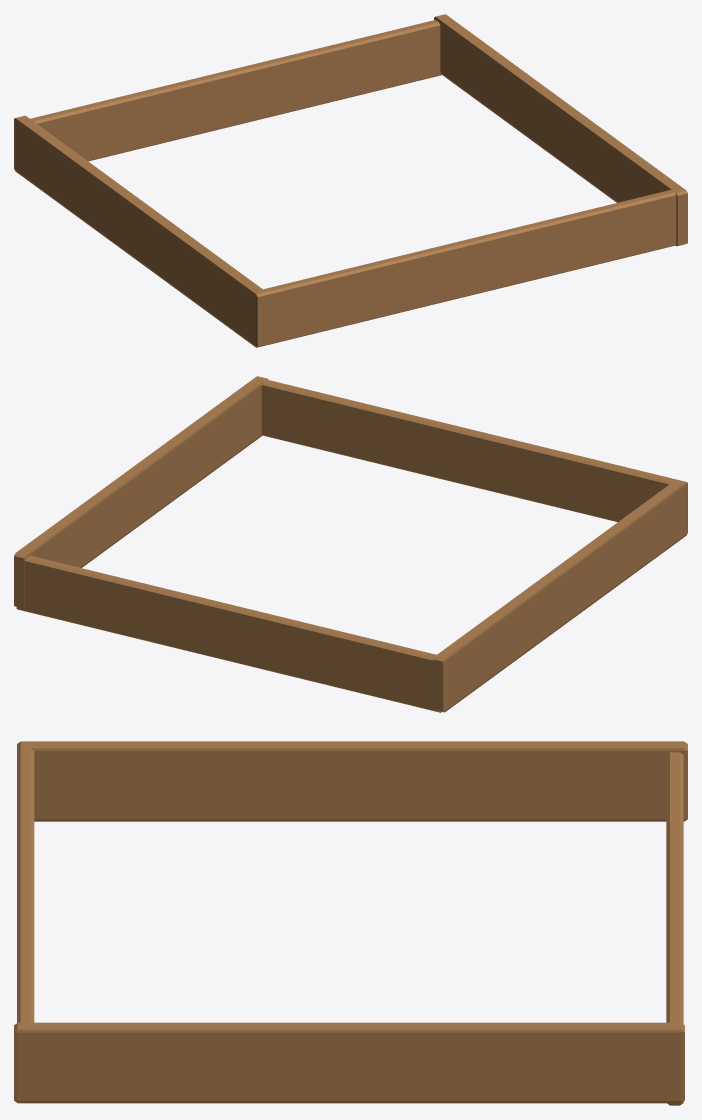
File: Tile_planks.fbx
3 renders of one model, top to bottom at view 1: azimuth 30°, elevation 25°; view 2: azimuth 150°, elevation 25°; view 3: azimuth 270°, elevation 25°, orthographic. The views are drawn at different scales.
Visible parts, largest first — view 1: Tile planks; view 2: Tile planks; view 3: Tile planks.
Part boxes in pixels (x1=…): Tile planks: x1=14, y1=14, x2=687, y2=347; Tile planks: x1=14, y1=376, x2=687, y2=712; Tile planks: x1=14, y1=741, x2=687, y2=1105.
Bounding box in the file's own units: 211 × 26.38 × 208.
